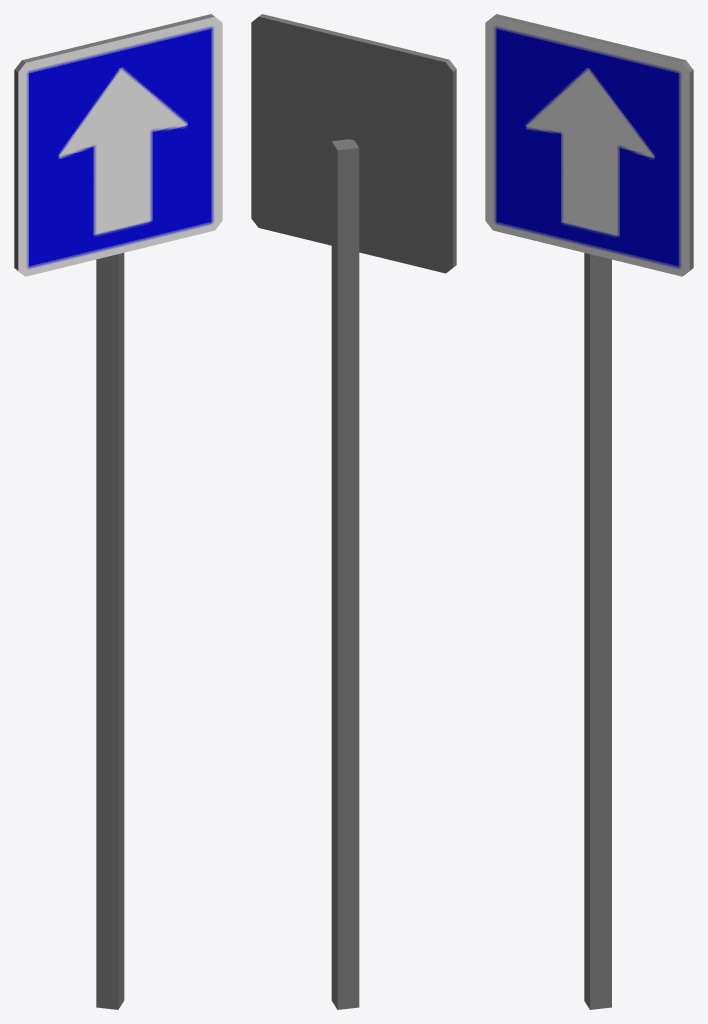
File: OneWay.obj
The picture shows the model from 3 angles, left to right: view 1: azimuth 30°, elevation 25°; view 2: azimuth 150°, elevation 25°; view 3: azimuth 330°, elevation 25°; orthographic projection.
Visible parts, largest first — view 1: Sign_OneWayTraffic; view 2: Sign_OneWayTraffic; view 3: Sign_OneWayTraffic.
Boxes of the visible parts, box(x1,y1,x2,y2) form: Sign_OneWayTraffic: box(14, 14, 222, 1009); Sign_OneWayTraffic: box(251, 14, 456, 1009); Sign_OneWayTraffic: box(485, 14, 693, 1009).
Size of the model in its own units: 1.17 by 5.31 by 0.1813.
1 material, 1 textured.
